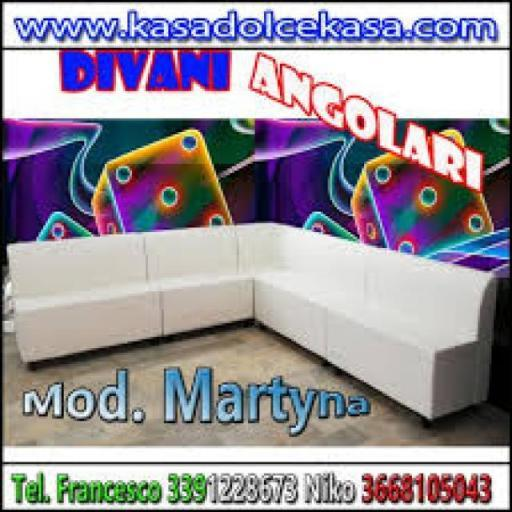sofa: (6, 195, 498, 439)
